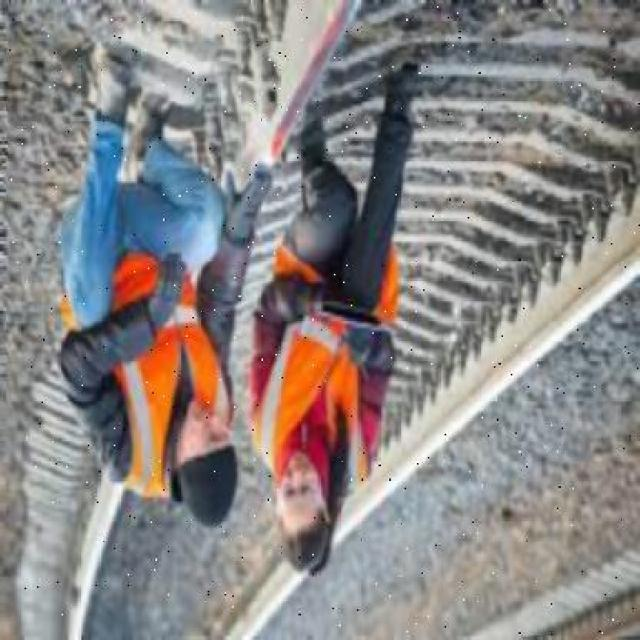danger: (43, 42, 281, 539), (246, 40, 429, 586)
rail: (8, 3, 640, 635)
